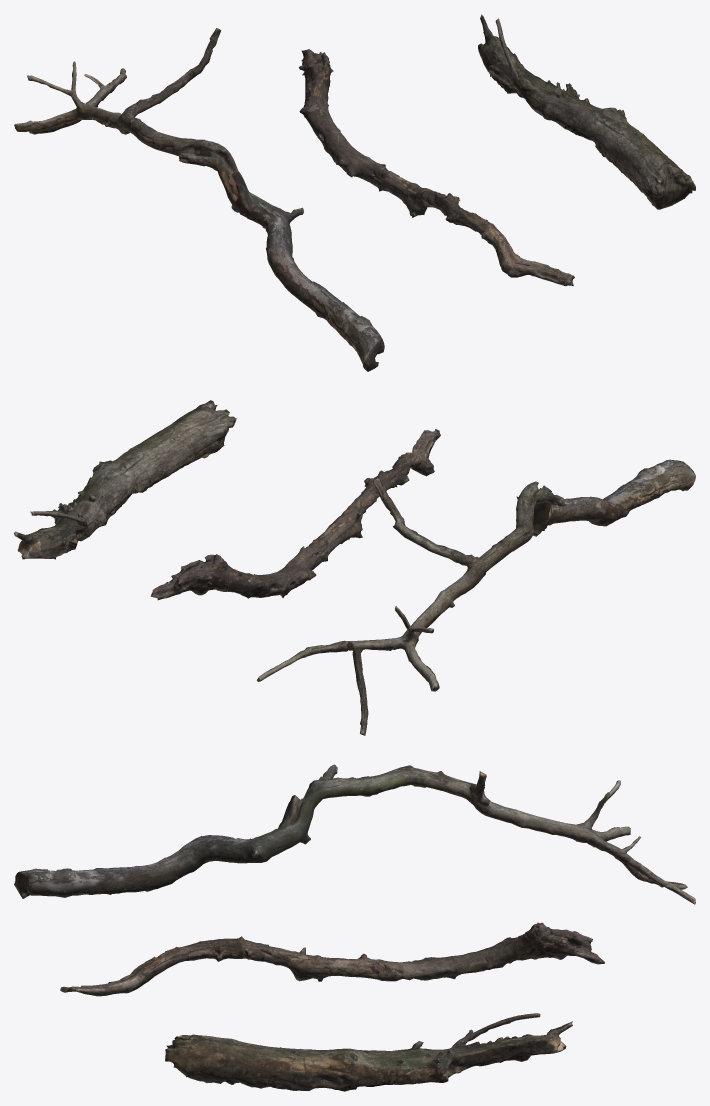
Rendered from branches-medium.glb.
The picture shows the model from 3 angles, top to bottom: view 1: azimuth 30°, elevation 25°; view 2: azimuth 150°, elevation 25°; view 3: azimuth 270°, elevation 25°; orthographic projection. The views are drawn at different scales.
Visible parts, largest first — view 1: dry_branches_medium_01_a, dry_branches_medium_01_c, dry_branches_medium_01_b; view 2: dry_branches_medium_01_a, dry_branches_medium_01_c, dry_branches_medium_01_b; view 3: dry_branches_medium_01_a, dry_branches_medium_01_c, dry_branches_medium_01_b.
Boxes of the visible parts, x1,y1,x2,y2 form: dry_branches_medium_01_a: [14, 28, 384, 371]; dry_branches_medium_01_c: [478, 14, 695, 209]; dry_branches_medium_01_b: [299, 49, 574, 286]; dry_branches_medium_01_a: [257, 459, 695, 735]; dry_branches_medium_01_c: [14, 400, 236, 559]; dry_branches_medium_01_b: [150, 429, 440, 600]; dry_branches_medium_01_a: [14, 764, 695, 904]; dry_branches_medium_01_c: [165, 1013, 572, 1091]; dry_branches_medium_01_b: [60, 922, 604, 996].
Size of the model in its own units: 1.06 by 0.341 by 1.3.
3 materials, 3 textured.
